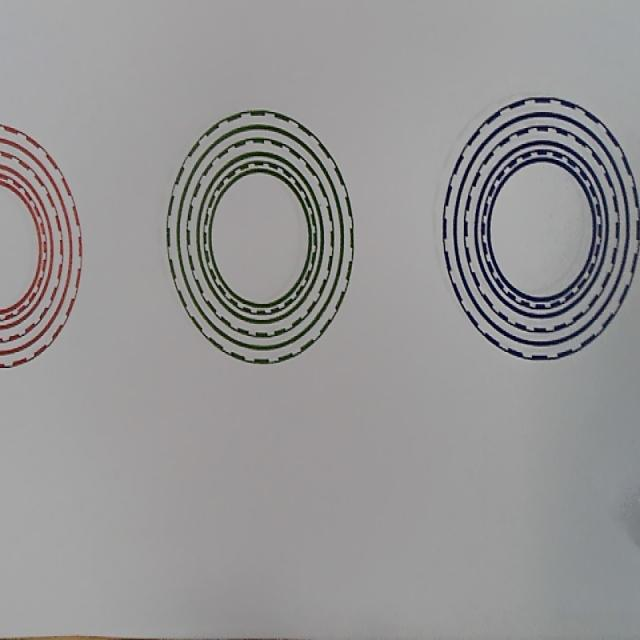b: (441, 96, 640, 360)
g: (166, 110, 354, 364)
